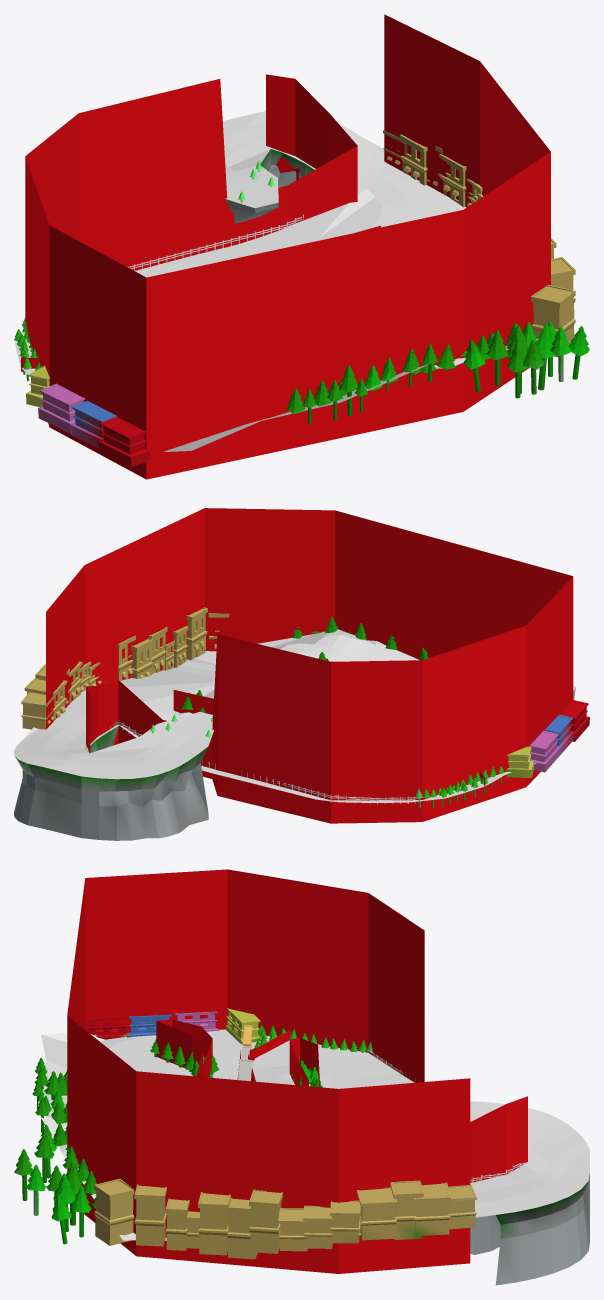
File: track.gltf
3 views of the same model, one above another, from view 1: azimuth 30°, elevation 25°; view 2: azimuth 150°, elevation 25°; view 3: azimuth 270°, elevation 25° (orthographic). The views are drawn at different scales.
Parts seen in each view (by area): view 1: barrier, decor, grass, track; view 2: barrier, decor, grass, track; view 3: barrier, decor, grass, track.
Boxes of the visible parts, x1,y1,x2,y2 form: barrier: (21,14,550,479); decor: (14,130,589,467); grass: (15,111,537,451); track: (223,124,409,228); barrier: (46,508,573,823); decor: (14,607,589,840); grass: (14,629,575,802); track: (42,643,355,766); barrier: (67,869,527,1273); decor: (14,1008,589,1285); grass: (38,1029,589,1240); track: (109,1037,567,1204).
Size of the model in its own units: 7.57 by 3.01 by 7.69.
